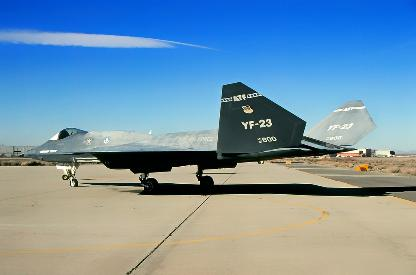US2: (22, 81, 376, 192)
